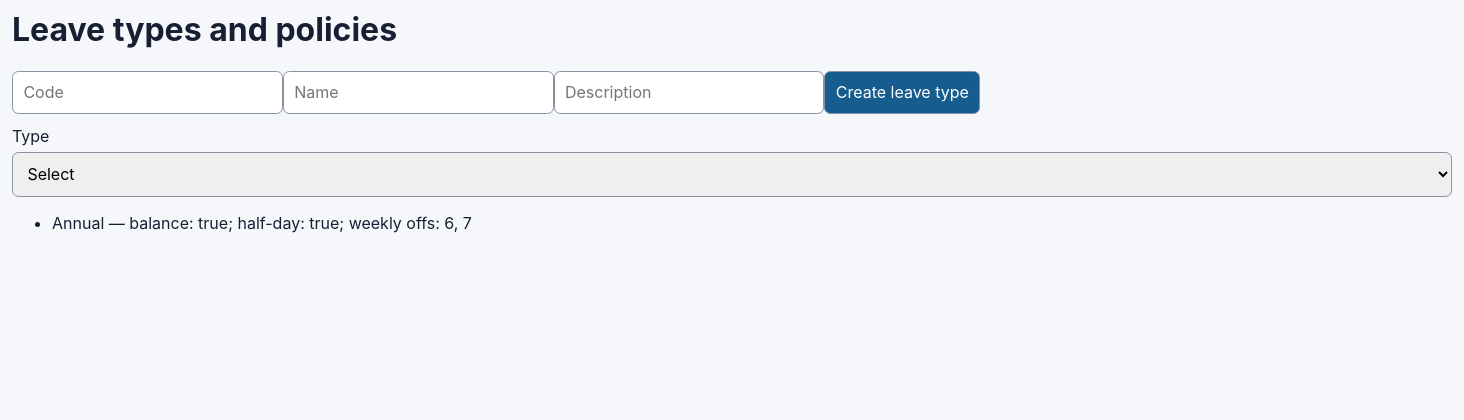
Test: renders configurable policy and holiday controls
This screenshot has width=1464, height=420.
Select "Annual" in the dropdown named "Policy leave type" at (732,174), box [12,152,1452,197]
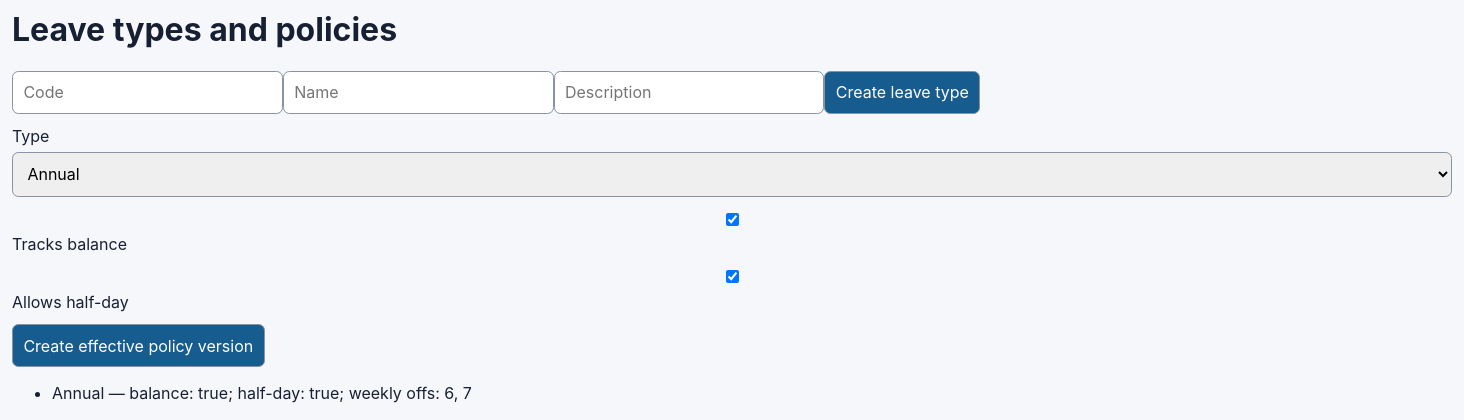
Expected: the list item "Annual — balance: true; half-day: true; weekly offs: 6, 7" is shown, [52,383,472,403]
Result: the checkbox labelled "Tracks balance" is checked at [16,213,1449,226]
Result: the checkbox labelled "Allows half-day" is checked at [16,270,1449,283]
